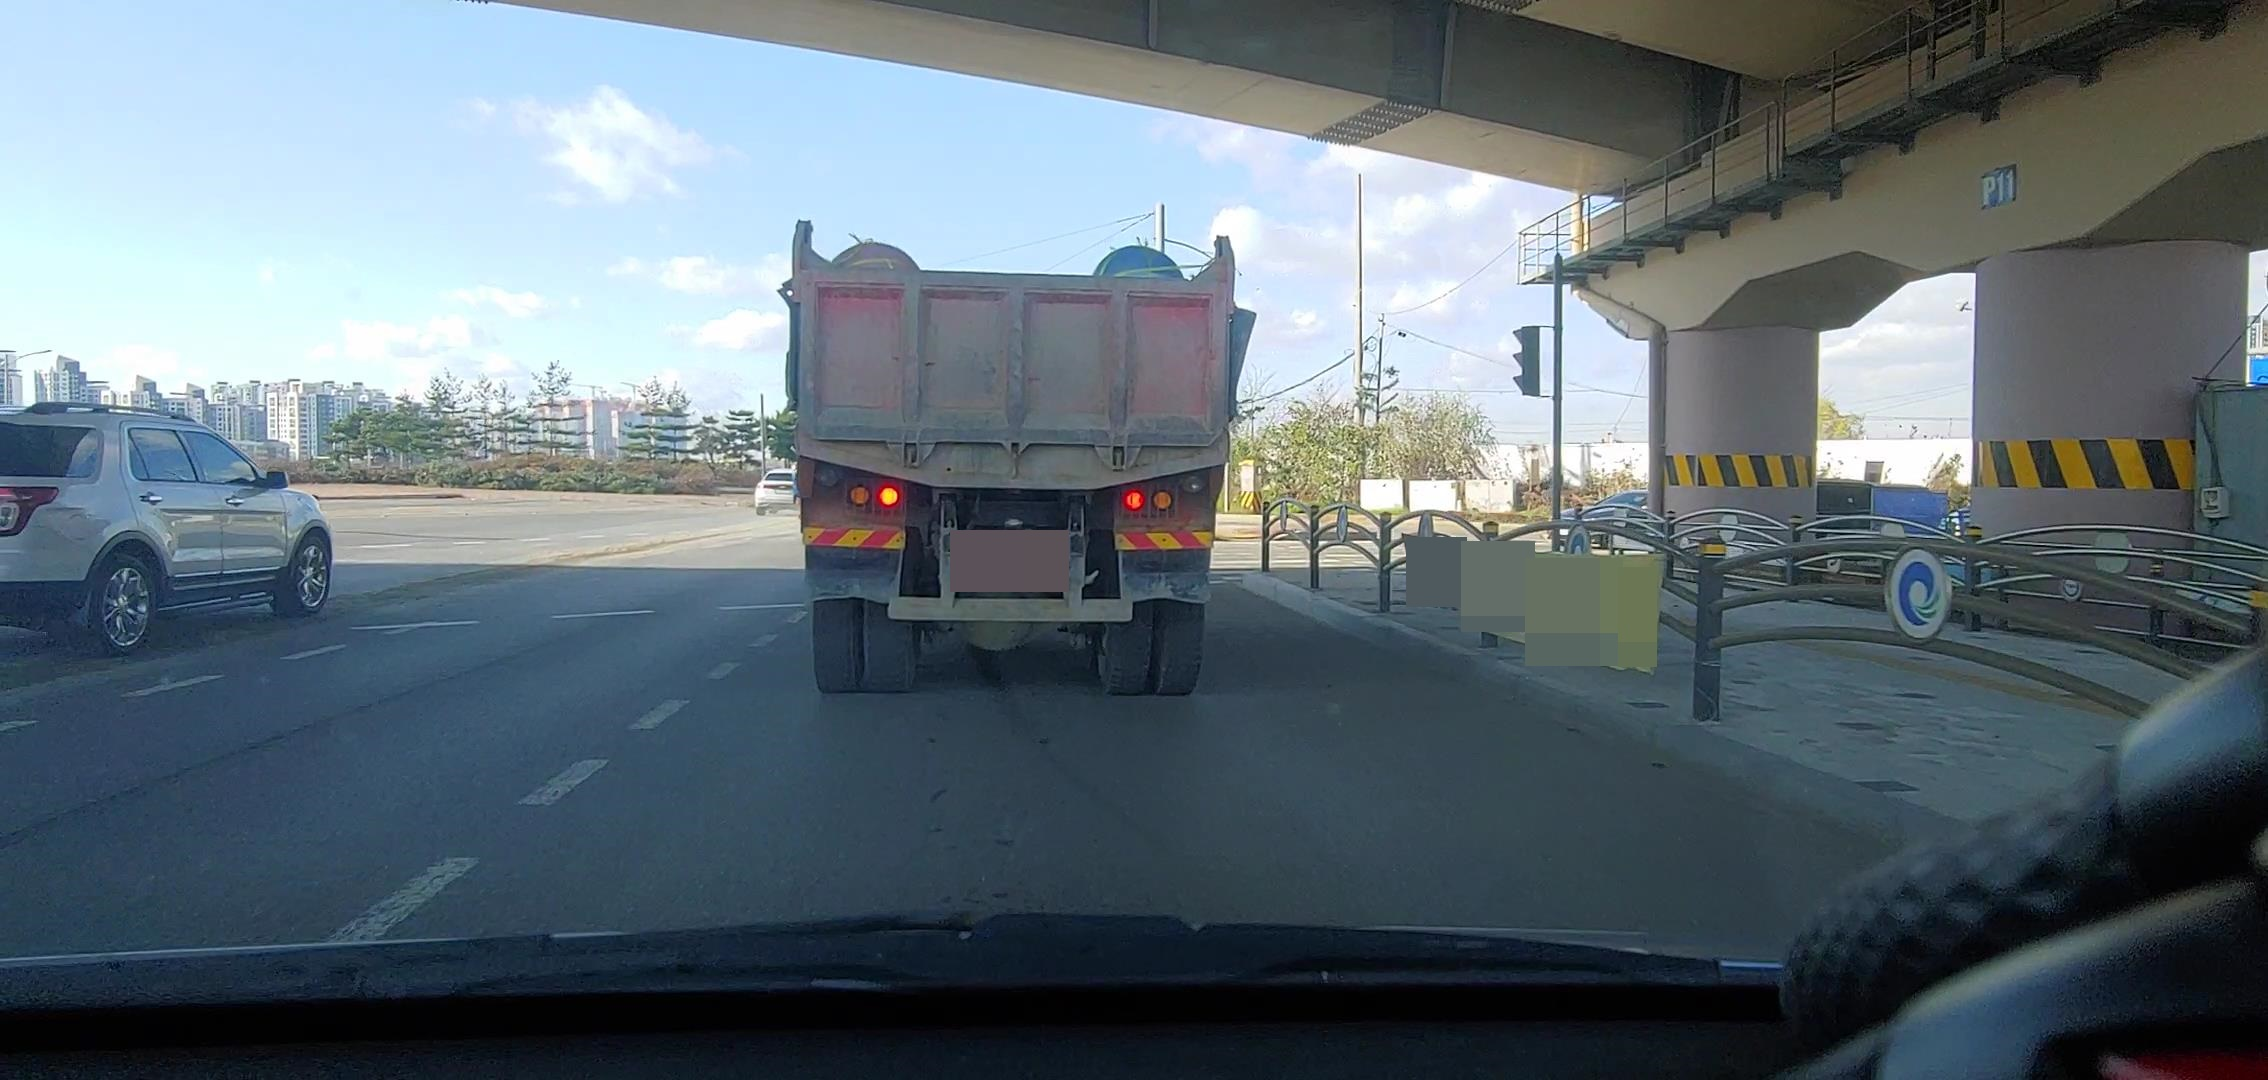불법차량: (777, 218, 1257, 697)
